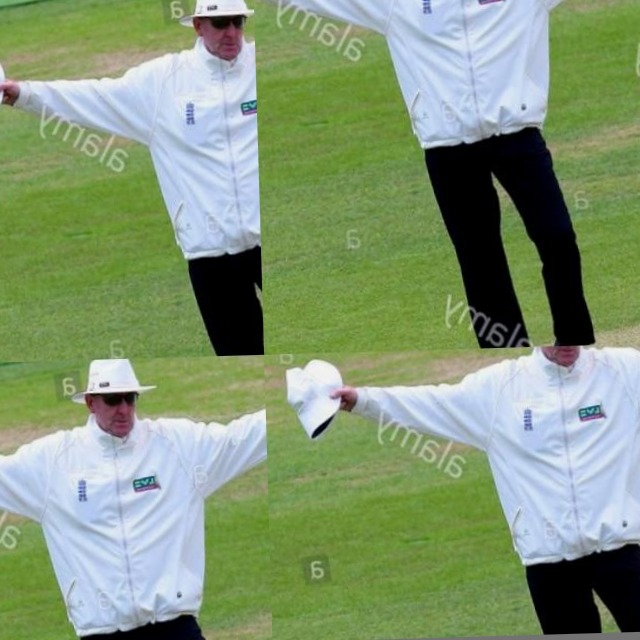No_Ball: (0, 355, 273, 640), (357, 0, 640, 170)
Six: (161, 0, 260, 224)
Wide: (264, 343, 640, 640)
